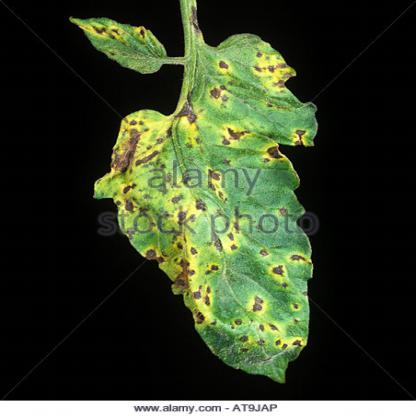tomato septoria leaf spot: (98, 78, 326, 383)
